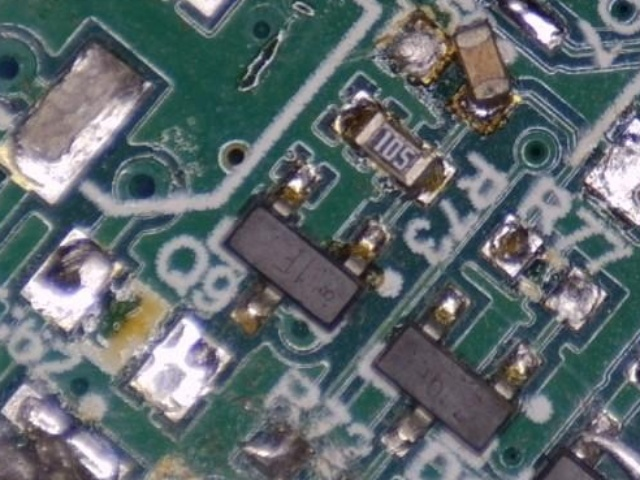pcb_defect: (382, 9, 522, 138), (0, 396, 142, 480), (569, 412, 640, 480)
